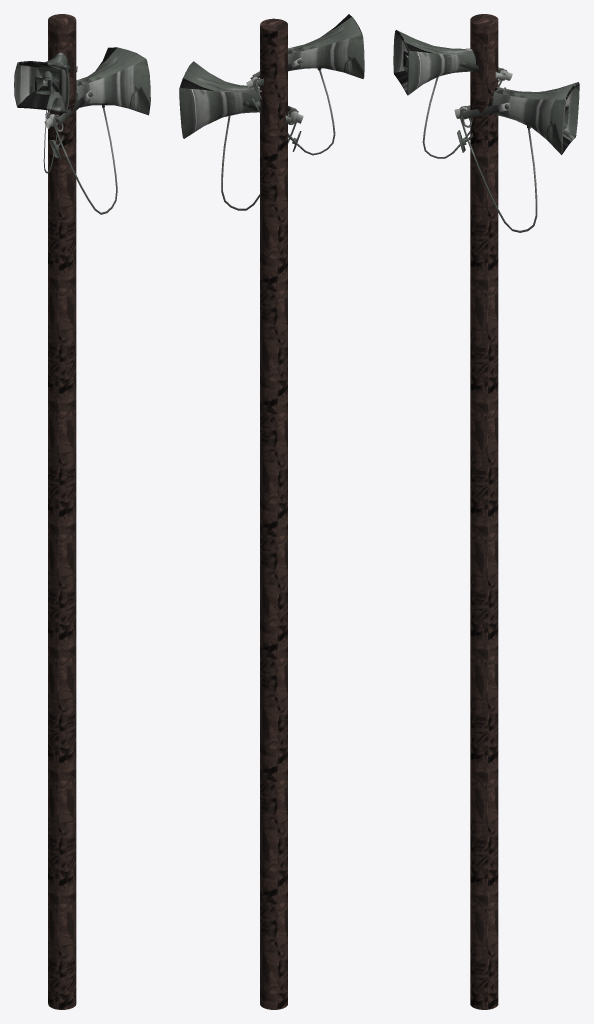
Rendered from Siren.fbx.
3 renders of one model, left to right at view 1: azimuth 30°, elevation 25°; view 2: azimuth 150°, elevation 25°; view 3: azimuth 330°, elevation 25°, orthographic.
Parts seen in each view (by area): view 1: Object_2, Object_3.002, Object_3.001, Object_3; view 2: Object_2, Object_3.002, Object_3.001, Object_3; view 3: Object_2, Object_3.002, Object_3.001, Object_3.
Boxes of the visible parts, <box> form: Object_2: <box>48,14,76,1009</box>; Object_3.002: <box>76,47,150,115</box>; Object_3.001: <box>14,52,69,113</box>; Object_3: <box>43,65,117,214</box>; Object_2: <box>260,18,287,1009</box>; Object_3.002: <box>179,61,259,138</box>; Object_3.001: <box>288,14,364,78</box>; Object_3: <box>221,57,335,210</box>; Object_2: <box>470,14,498,1009</box>; Object_3.002: <box>493,82,579,154</box>; Object_3.001: <box>393,30,475,95</box>; Object_3: <box>422,60,537,232</box>.
Size of the model in its own units: 188 by 1155 by 141.
2 materials, 2 textured.
